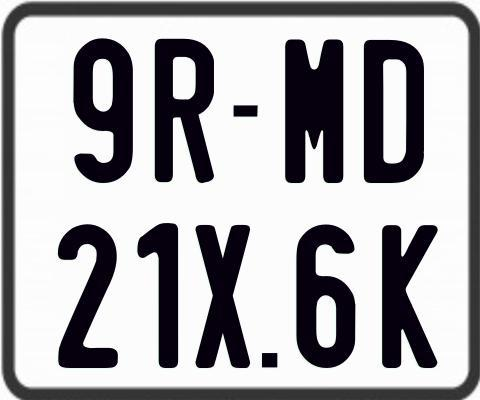1: (136, 220, 179, 366)
2: (57, 221, 119, 367)
6: (296, 225, 359, 373)
9: (71, 36, 133, 183)
D: (362, 40, 422, 187)
K: (379, 224, 441, 370)
M: (284, 37, 346, 184)
R: (152, 36, 213, 184)
X: (196, 224, 256, 372)
